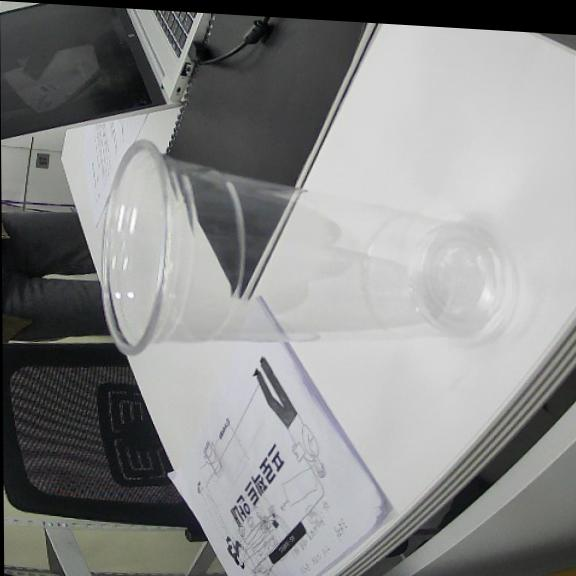Plastik: (101, 140, 502, 354)
